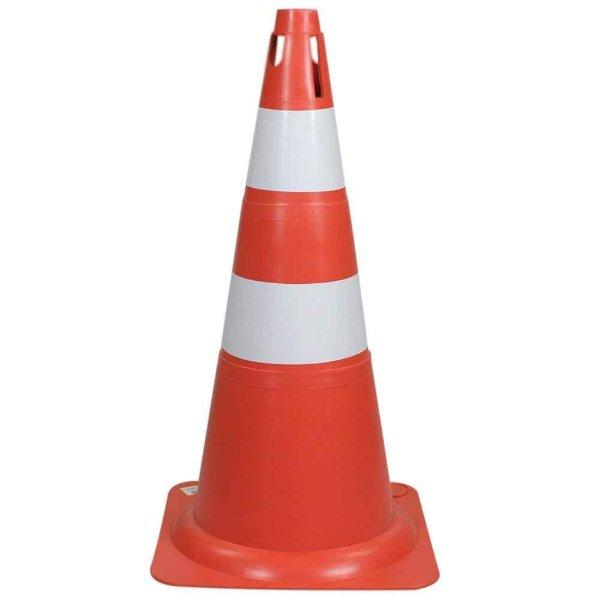traffic_cone: (149, 7, 440, 591)
